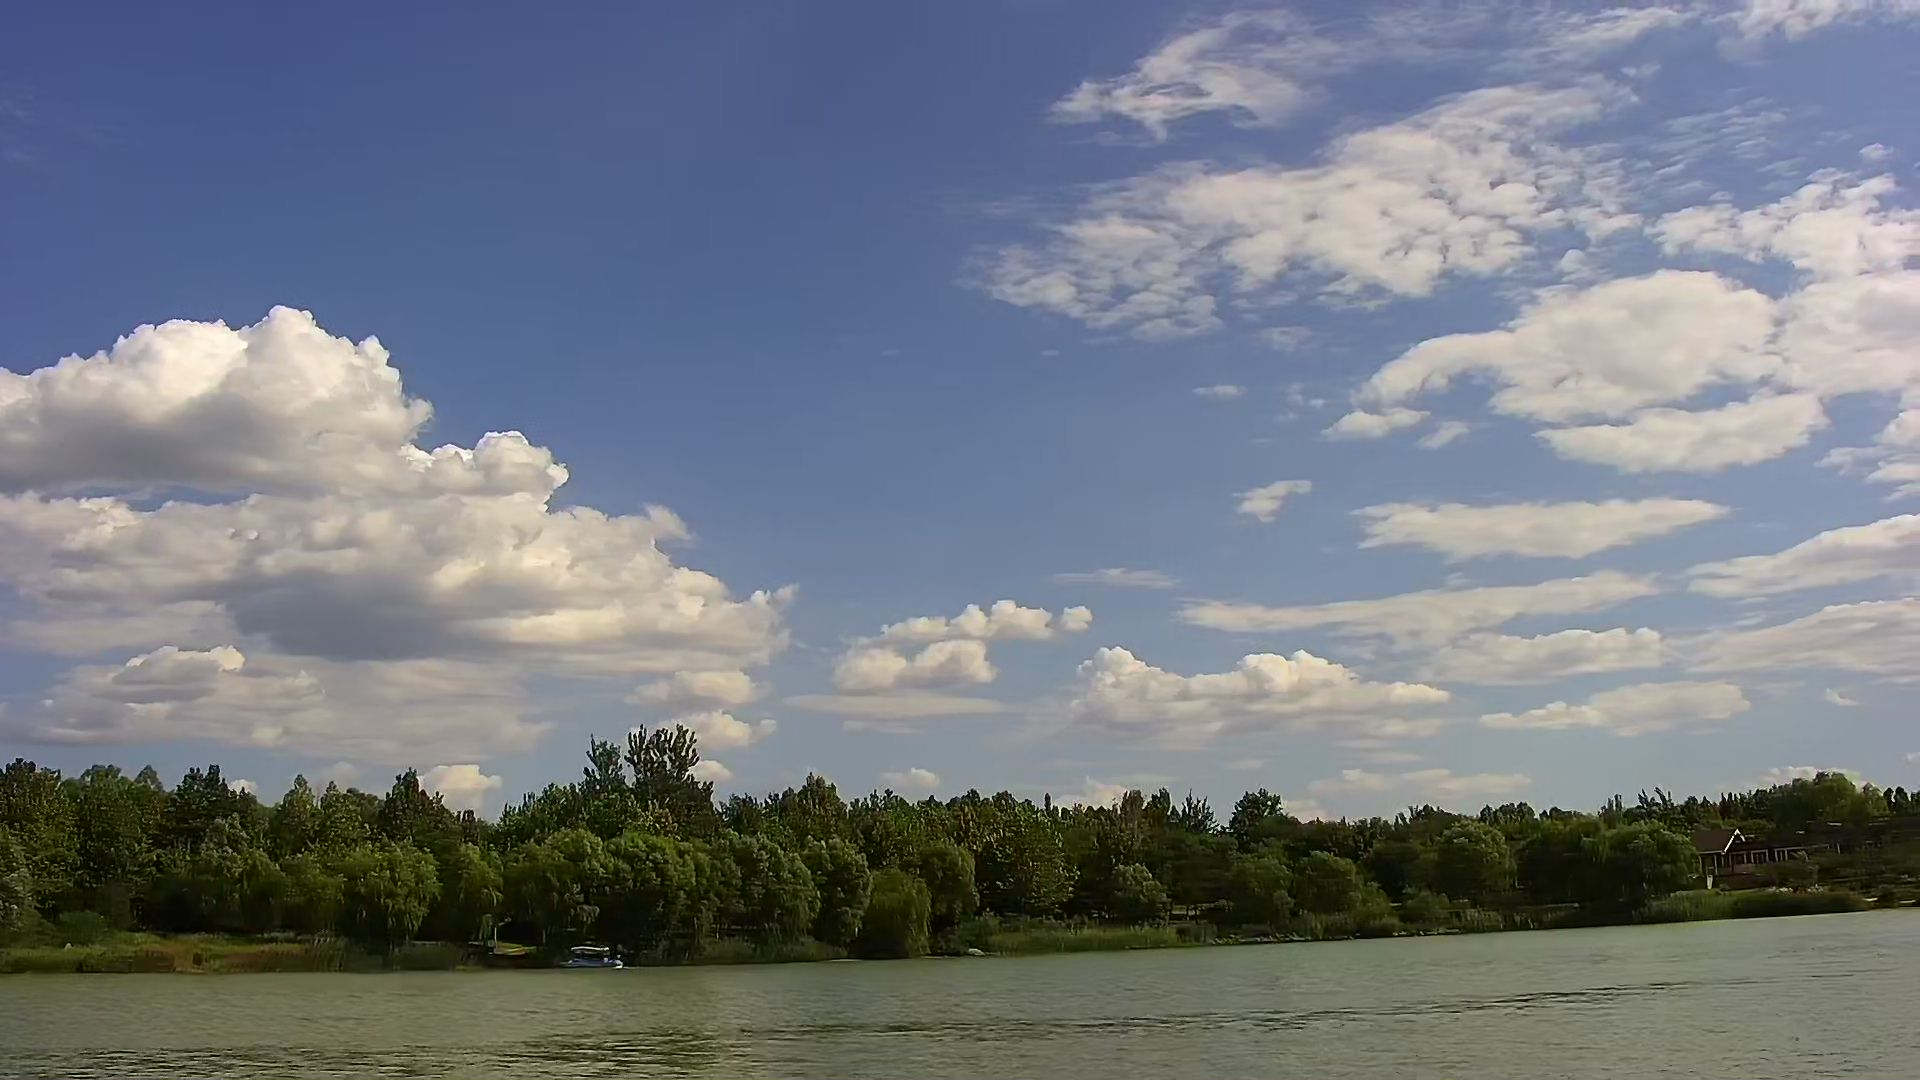boat: (558, 944, 626, 972)
